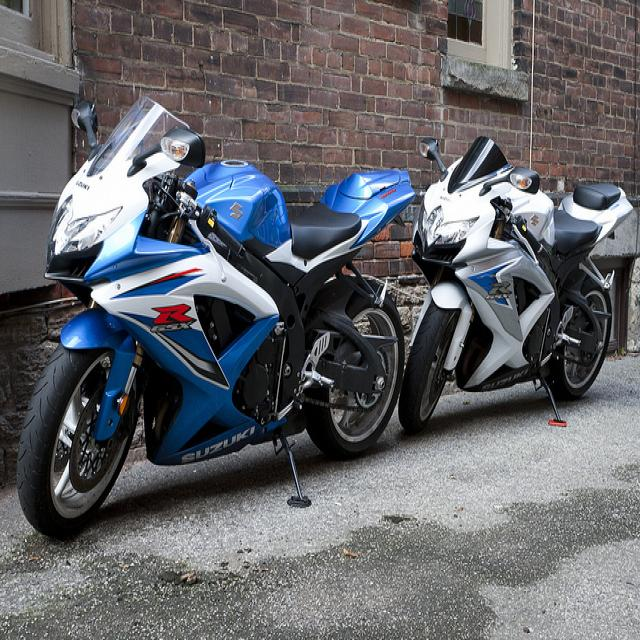motor: (17, 95, 417, 540), (393, 131, 636, 439)
